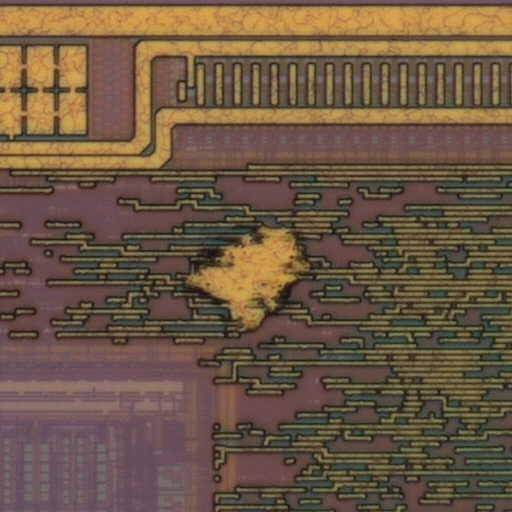BLOCK ETCH: (178, 217, 321, 339)
